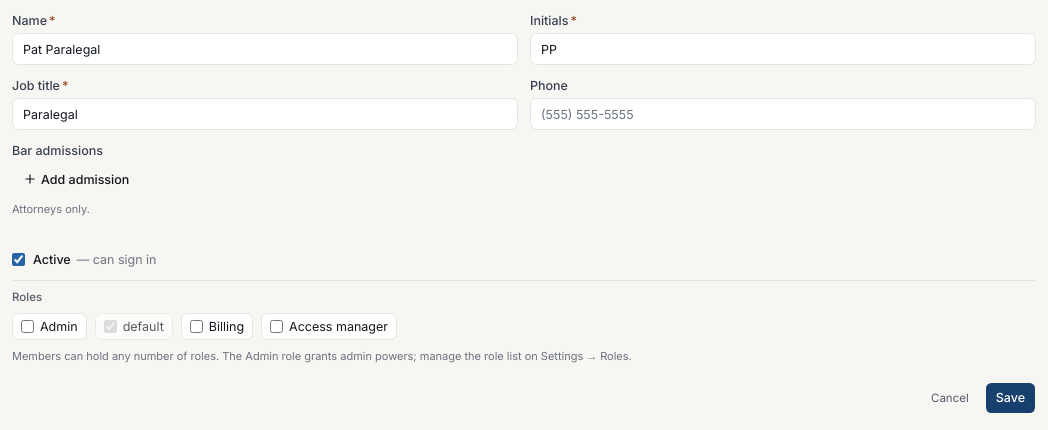
MemberEditForm › shows a returned barAdmissions error
The image size is (1048, 430).
Click the button "Save" at (1010, 398), box [985,382,1036,414]
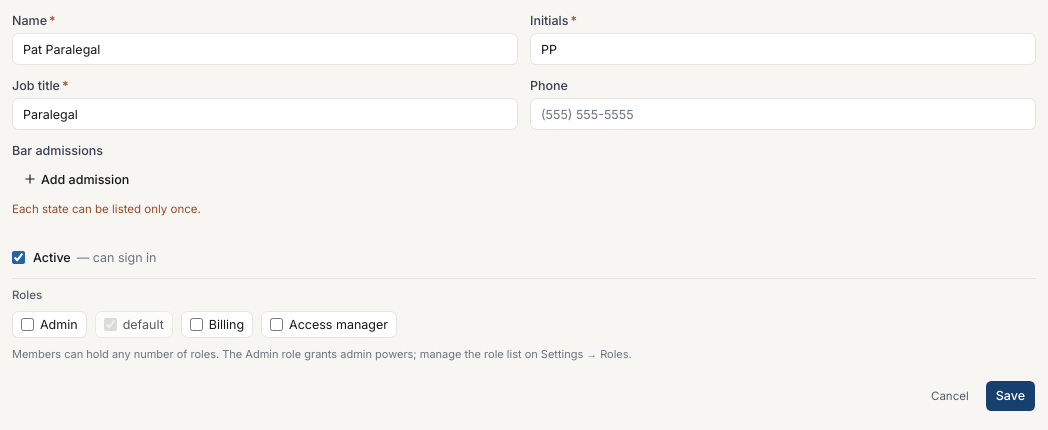
Expected: the text "Each state can be listed only once." is shown, [12,202,201,216]
